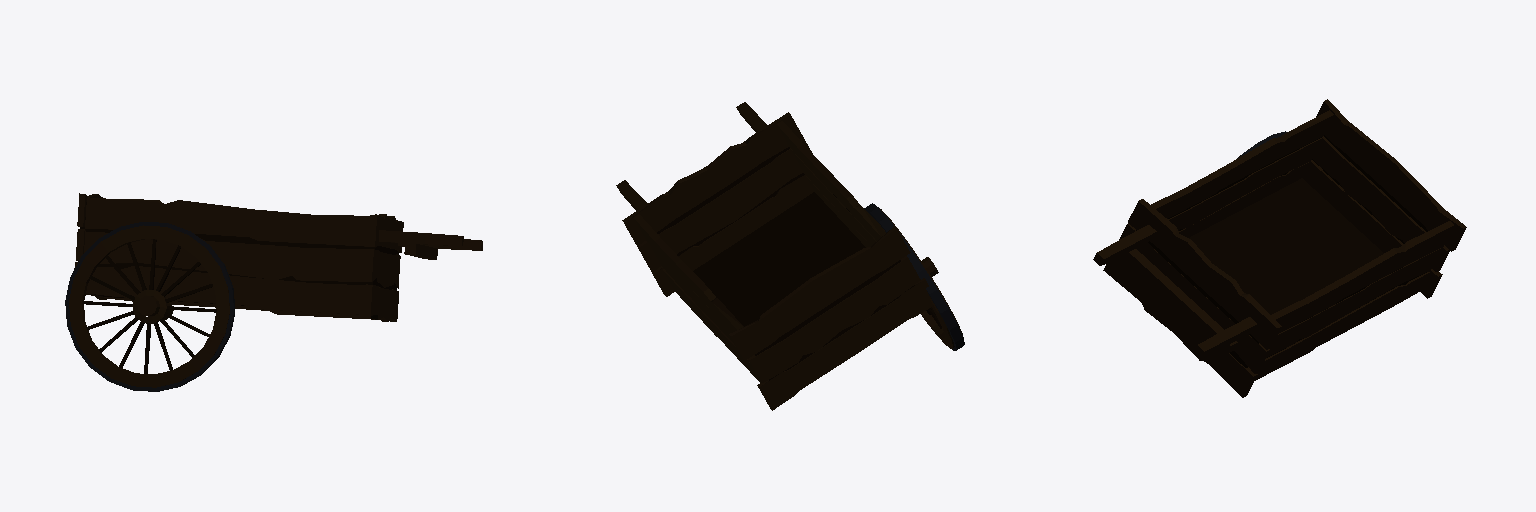
The model's file is Cart.obj.
The picture shows the model from 3 angles: view 1: azimuth 30°, elevation 25°; view 2: azimuth 150°, elevation 25°; view 3: azimuth 270°, elevation 25°; orthographic projection.
Parts seen in each view (by area): view 1: Cart_Cube.350; view 2: Cart_Cube.350; view 3: Cart_Cube.350.
Boxes of the visible parts, <box> form: Cart_Cube.350: <box>65,193,482,391</box>; Cart_Cube.350: <box>616,102,964,410</box>; Cart_Cube.350: <box>1093,99,1466,397</box>.
Size of the model in its own units: 3.31 by 1.38 by 2.83.